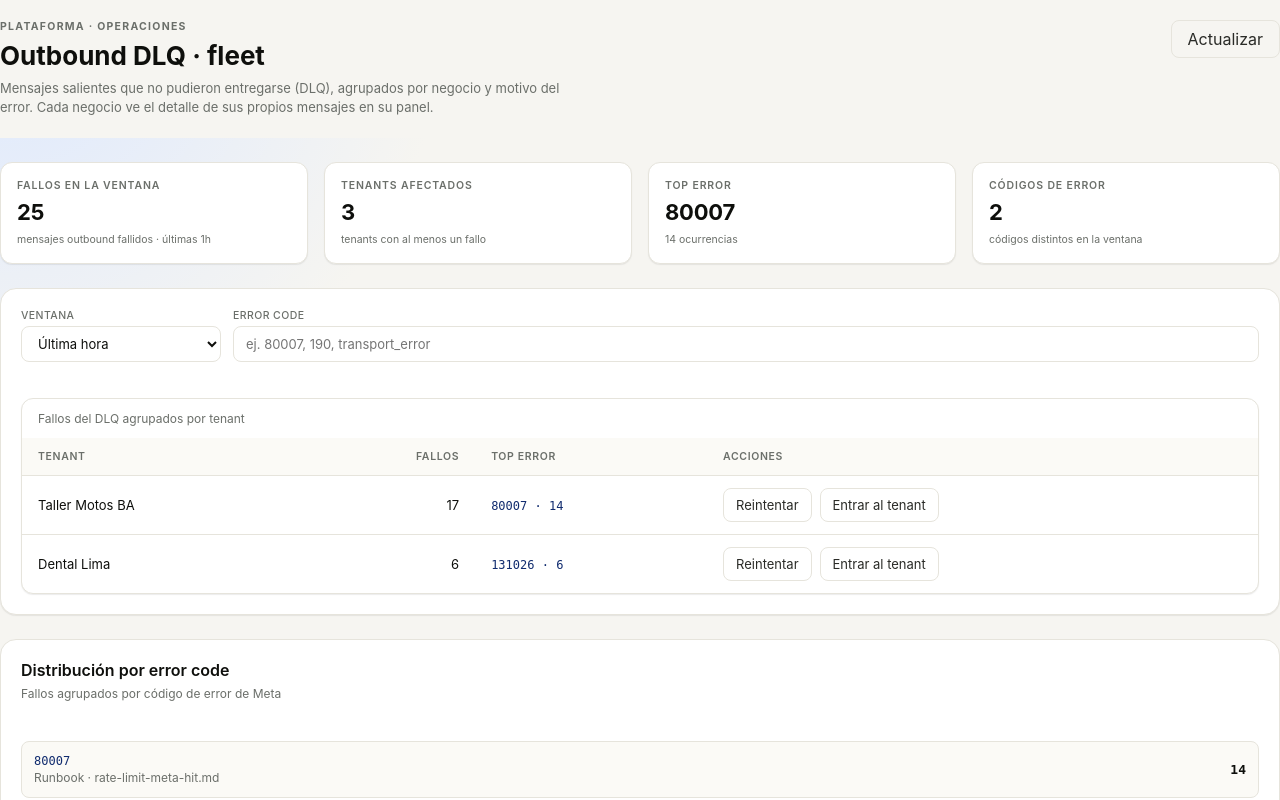
Test case: FleetDlq › retry falla → muestra error sin cerrar el modal
Check: the text "Taller Motos BA" is shown, box left=22, top=476, right=308, bottom=535
Step 1. Click the button "Reintentar" in the row of "Taller Motos BA" → coordinates (767, 505), box left=723, top=488, right=812, bottom=522
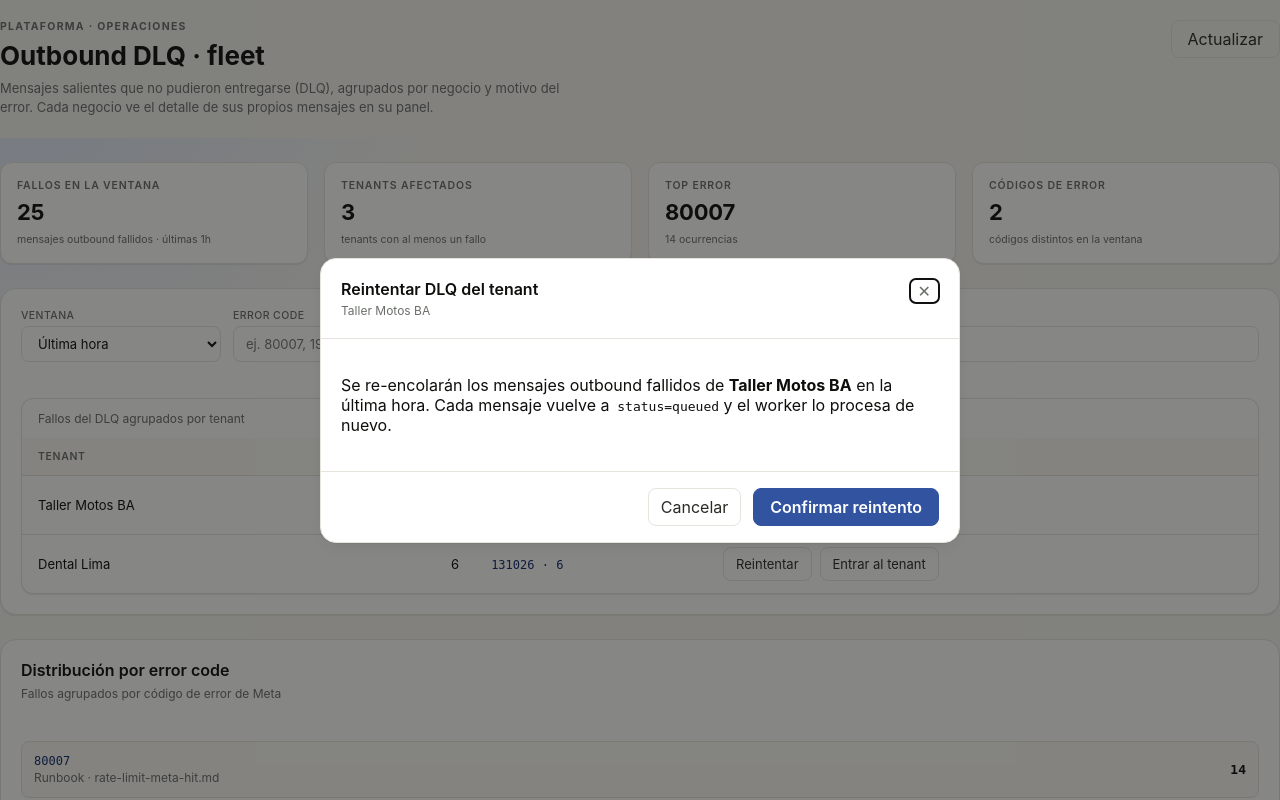
Check: the dialog is shown, box left=320, top=258, right=960, bottom=542
Step 2. Click the button "Confirmar reintento" → coordinates (846, 506), box left=753, top=488, right=939, bottom=526
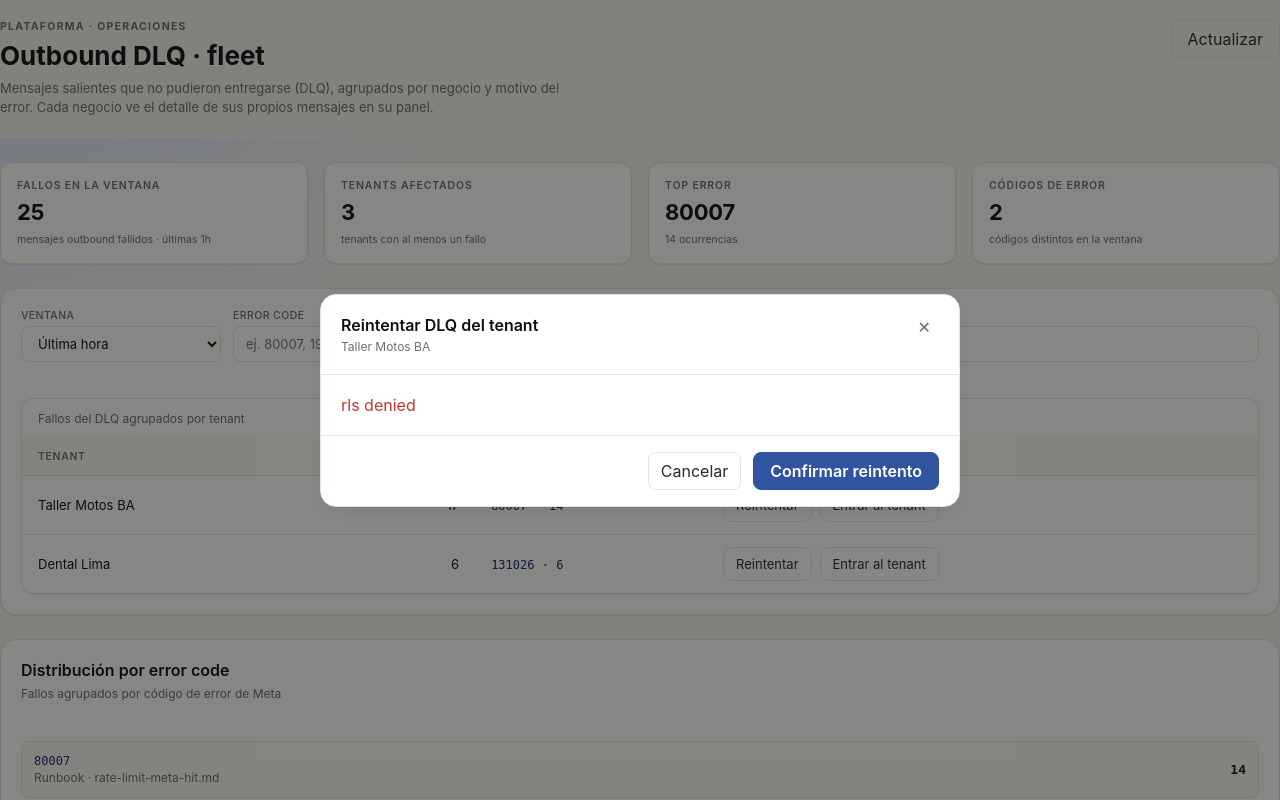
Check: the text "rls denied" is shown, box left=341, top=394, right=416, bottom=414
